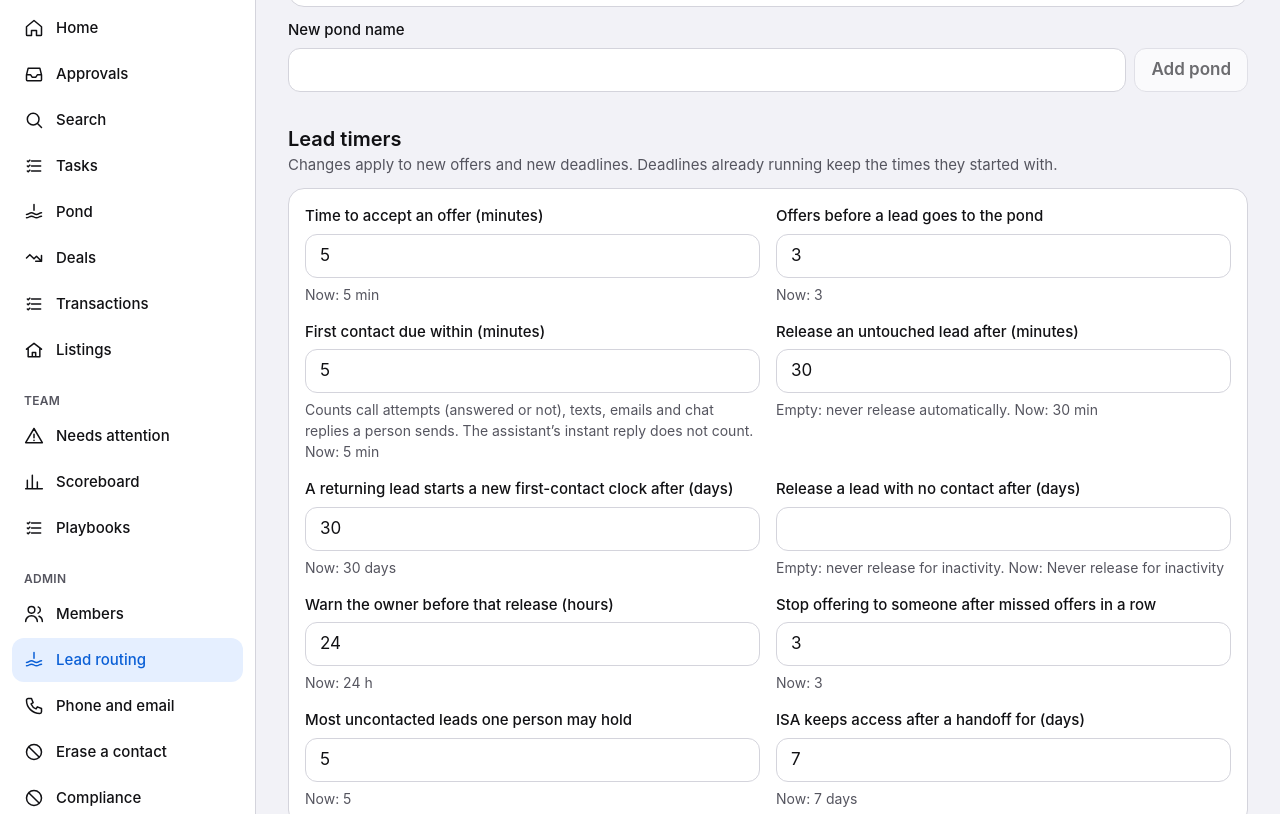
Lead routing › R-OWN-15 display: lead timers say they apply to new deadlines only, and saving sends only what changed with the settings version
(page scrolled)
Expected: the text "Changes apply to new offers and new deadlines. Deadlines already running keep the times they started with." is shown, [288,154,1058,174]
Replace the text in the field labelled "First contact due within (minutes)" with "10" at (532, 371), box [305,349,760,393]
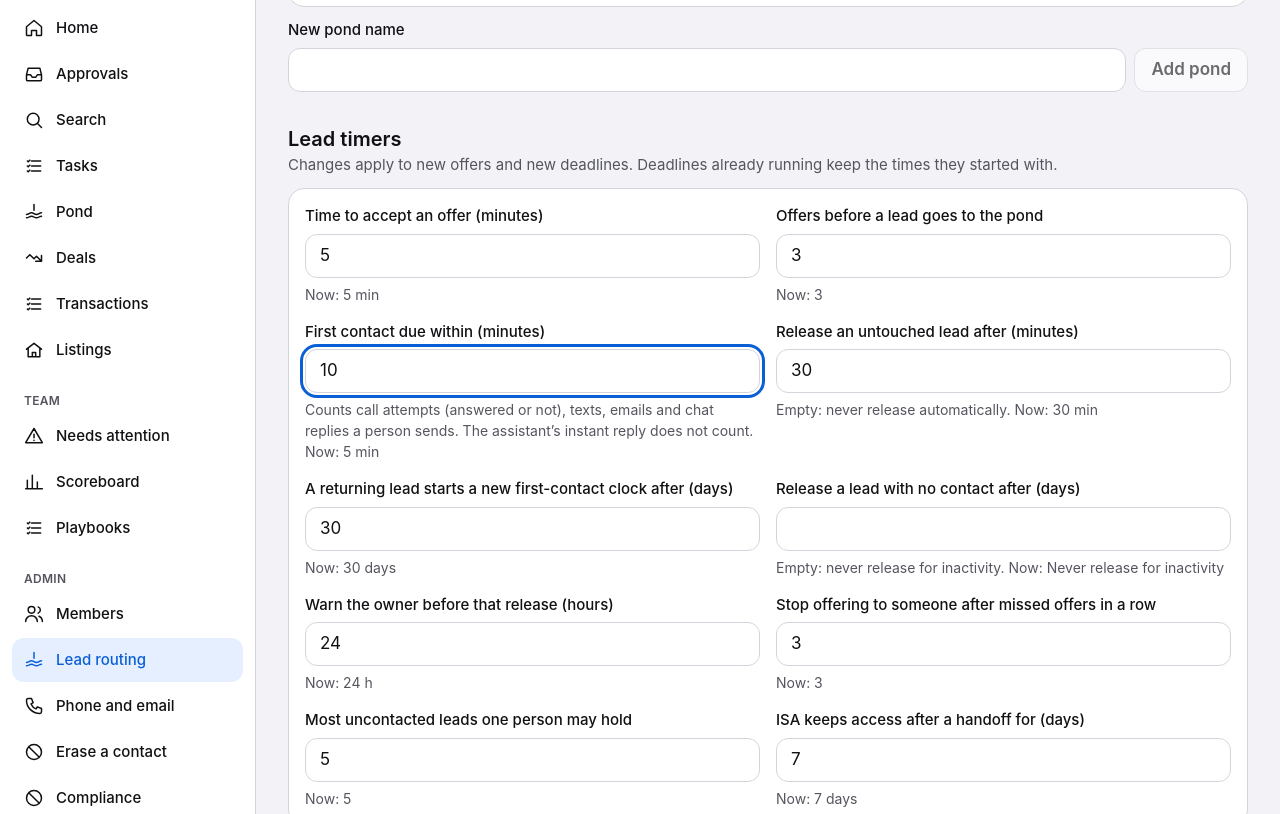
Clear the field labelled "Release an untouched lead after (minutes)" at (1004, 371), box [776,349,1231,393]
(page scrolled)
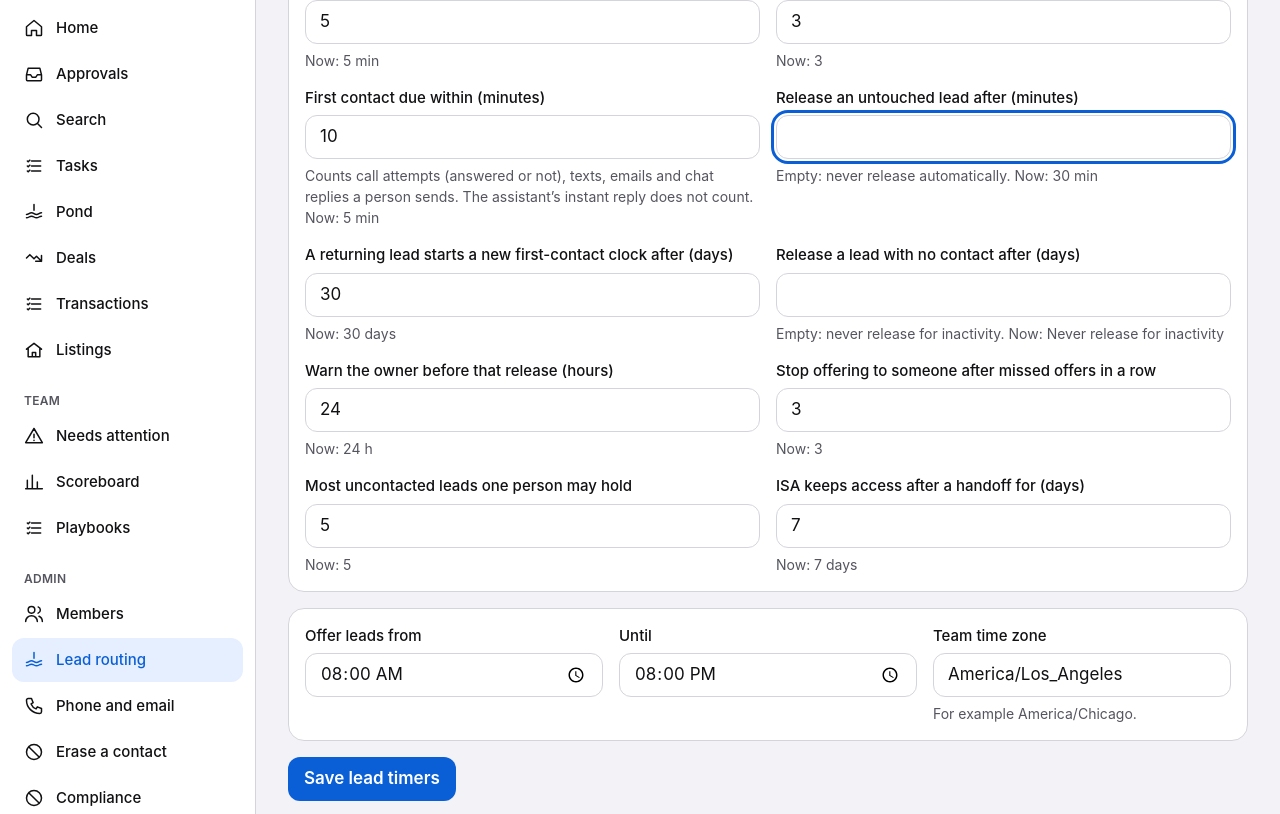
Click the button "Save lead timers" at (372, 779), box [288,757,456,801]
(page scrolled)
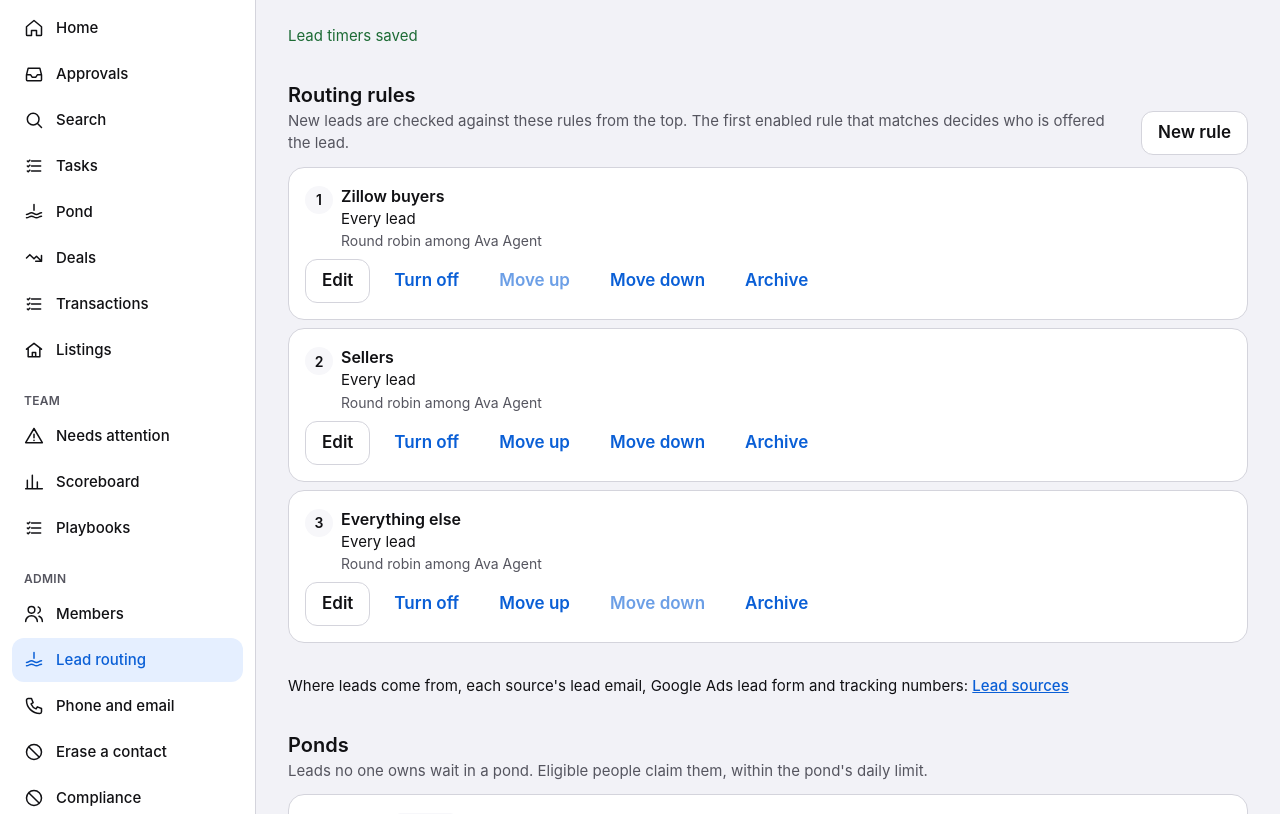
Now the text "Lead timers saved" is shown, box [288,26,418,45]
